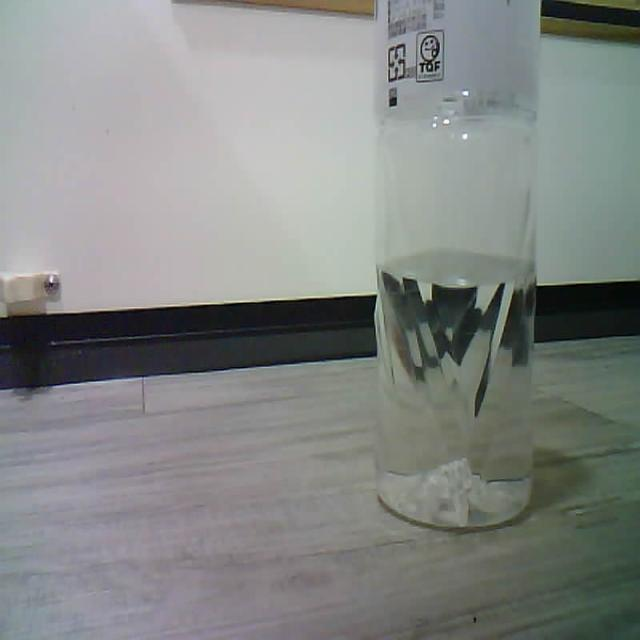bottle: (374, 0, 538, 526)
